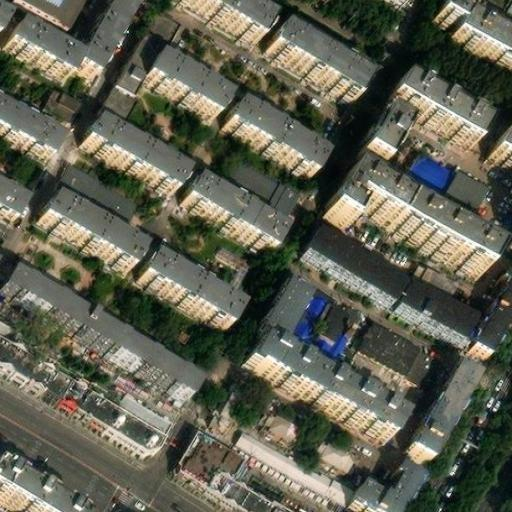building: (0, 267, 196, 400), (240, 333, 401, 442), (95, 10, 180, 128), (173, 430, 286, 512), (239, 422, 354, 499), (300, 226, 404, 302), (67, 381, 166, 460), (131, 255, 235, 330), (261, 25, 364, 100), (175, 178, 279, 252), (231, 96, 335, 170), (34, 195, 134, 268), (78, 118, 178, 190), (390, 204, 490, 276), (388, 74, 486, 146), (401, 366, 473, 461), (355, 314, 445, 384), (405, 143, 491, 211), (390, 279, 472, 342), (224, 148, 302, 210), (60, 159, 138, 220), (151, 54, 229, 113), (463, 262, 512, 352), (345, 457, 424, 512), (324, 172, 402, 225), (0, 97, 61, 158), (0, 24, 68, 78), (448, 17, 512, 73), (259, 274, 308, 336), (185, 0, 263, 38), (6, 0, 81, 35), (358, 108, 405, 161), (318, 294, 358, 336), (411, 253, 457, 289), (315, 433, 356, 468), (264, 403, 304, 438), (41, 83, 79, 118), (434, 0, 469, 27), (0, 178, 20, 211), (498, 132, 512, 160)
